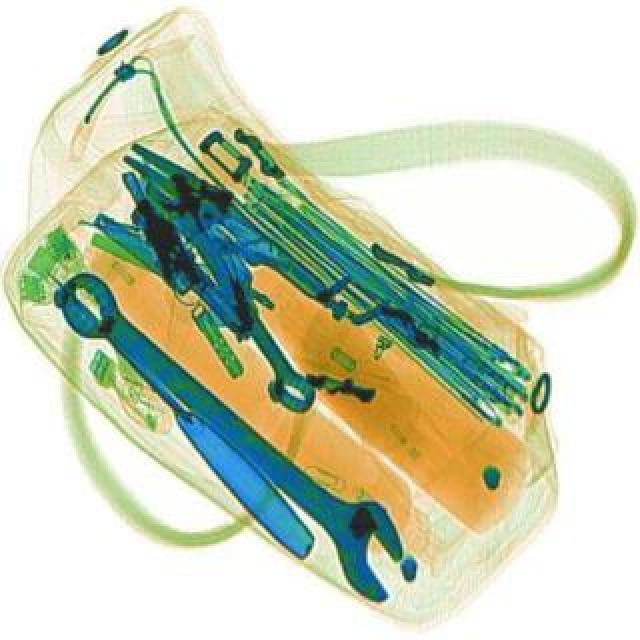gun: (112, 160, 252, 360)
knife: (26, 266, 326, 566)
scissors: (34, 256, 434, 612), (138, 172, 326, 424)
